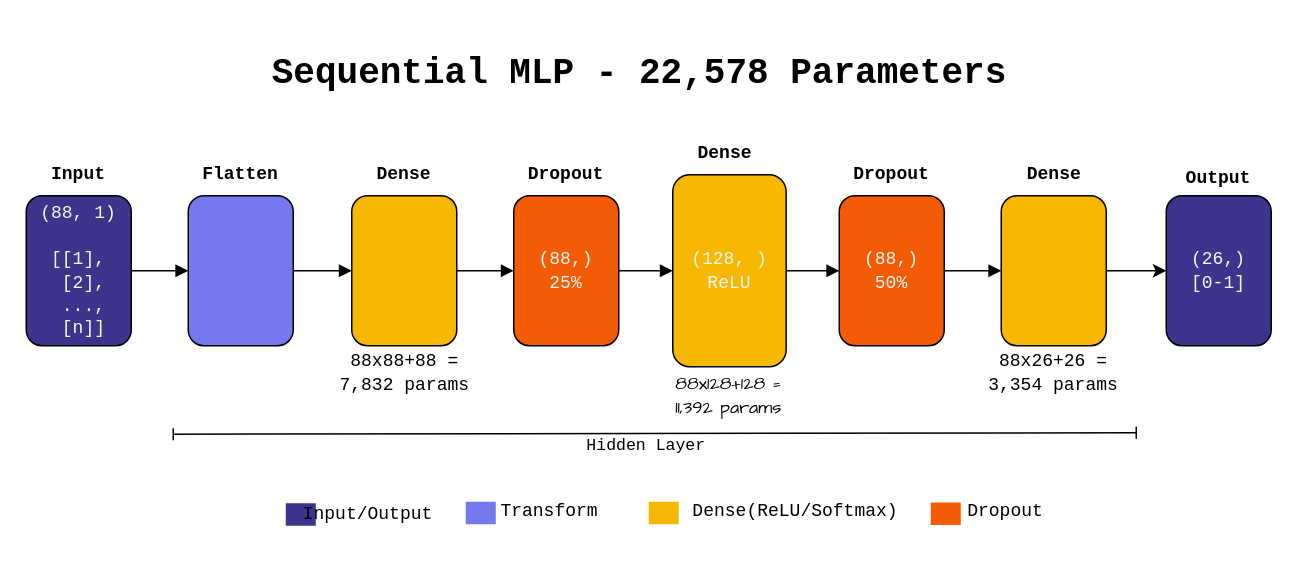
The diagram is 1298 pixels wide and 561 high, and some of its shapes have lost their labels. The shapes that lost their labels are listed below. From the top down, each one's centre as x and y in pixels, then its label:
pixel 240 270: (88,) [1,2,_,n]
pixel 403 270: (88,) ReLU
pixel 1053 270: (26,) Softmax
